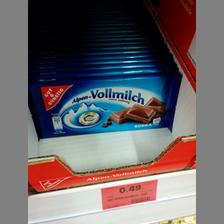Schokolade: (26, 79, 178, 141)
